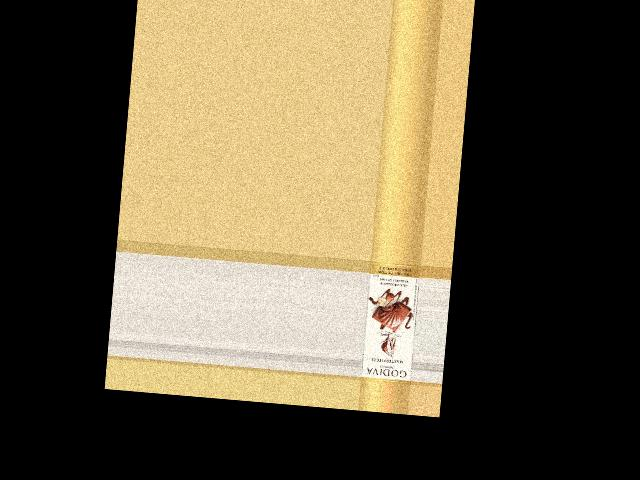chocolate: (360, 261, 419, 384)
